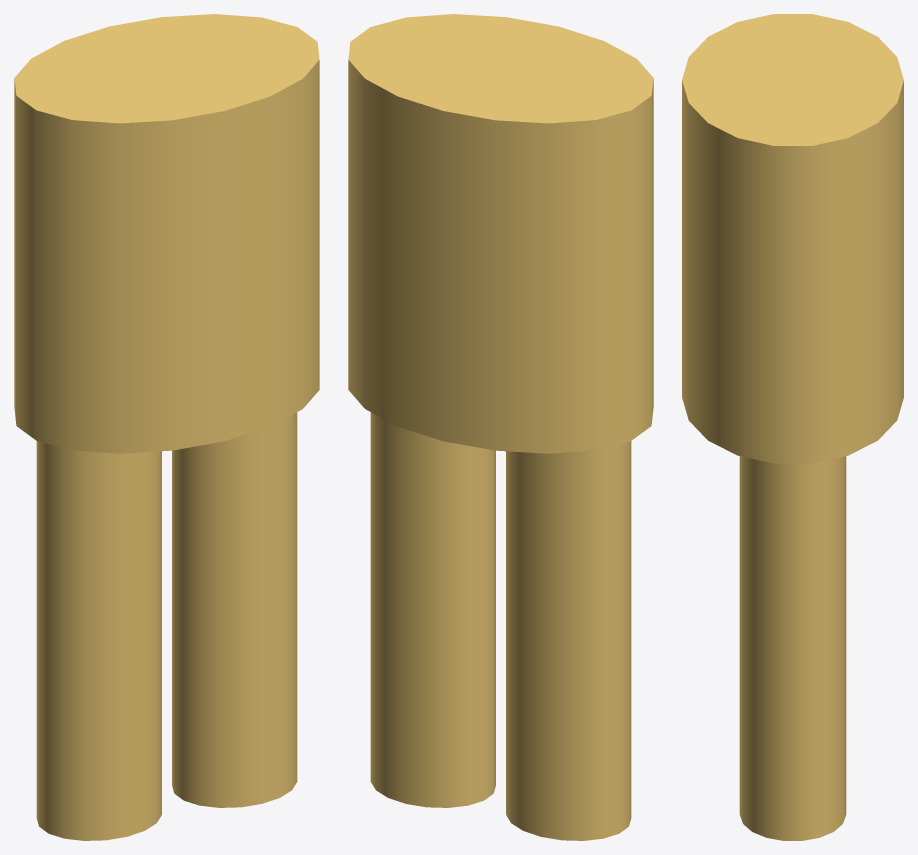
The model's file is VM-DAM-SH40973451.glb.
The picture shows the model from 3 angles, left to right: view 1: azimuth 30°, elevation 25°; view 2: azimuth 150°, elevation 25°; view 3: azimuth 270°, elevation 25°; orthographic projection. The views are drawn at different scales.
Visible parts, largest first — view 1: Bodystocking Plus Transparente Sexy; view 2: Bodystocking Plus Transparente Sexy; view 3: Bodystocking Plus Transparente Sexy.
Boxes of the visible parts, x1,y1,x2,y2 form: Bodystocking Plus Transparente Sexy: (14,14,319,840); Bodystocking Plus Transparente Sexy: (348,14,653,840); Bodystocking Plus Transparente Sexy: (682,14,903,840).
Size of the model in its own units: 0.3742 by 0.93 by 0.266.
